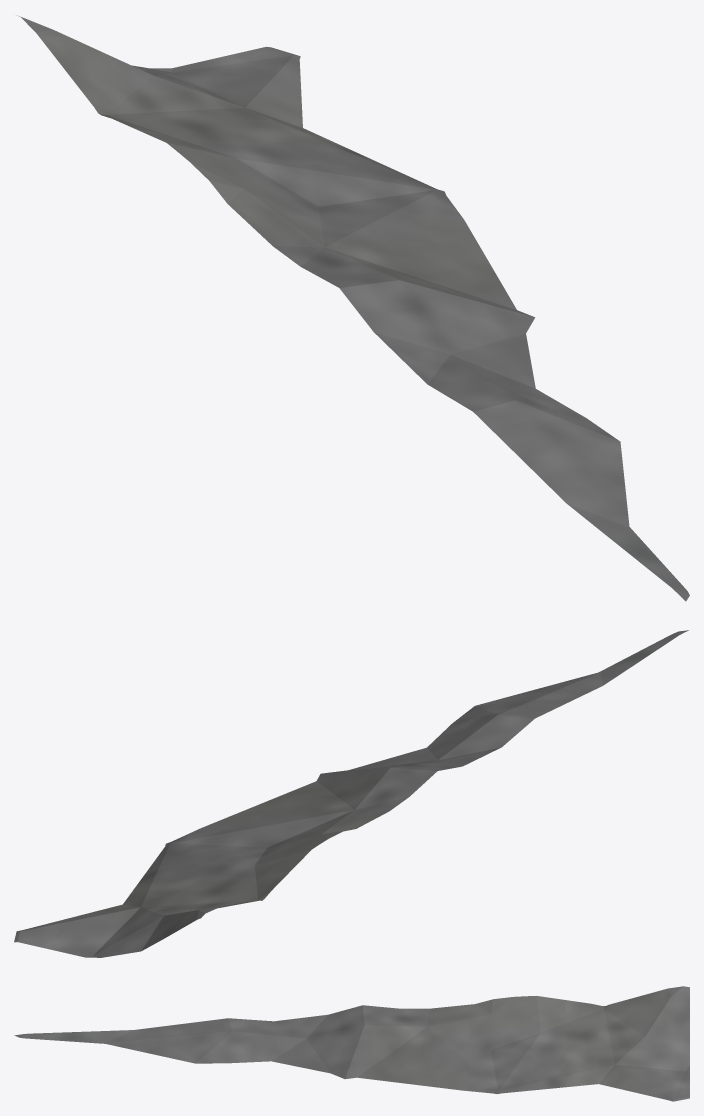
3 renders of one model, top to bottom at view 1: azimuth 30°, elevation 25°; view 2: azimuth 150°, elevation 25°; view 3: azimuth 270°, elevation 25°, orthographic. The views are drawn at different scales.
Bounding box in the file's own units: 0.2479 × 0.0858 × 1.07.
1 material, 1 textured.
